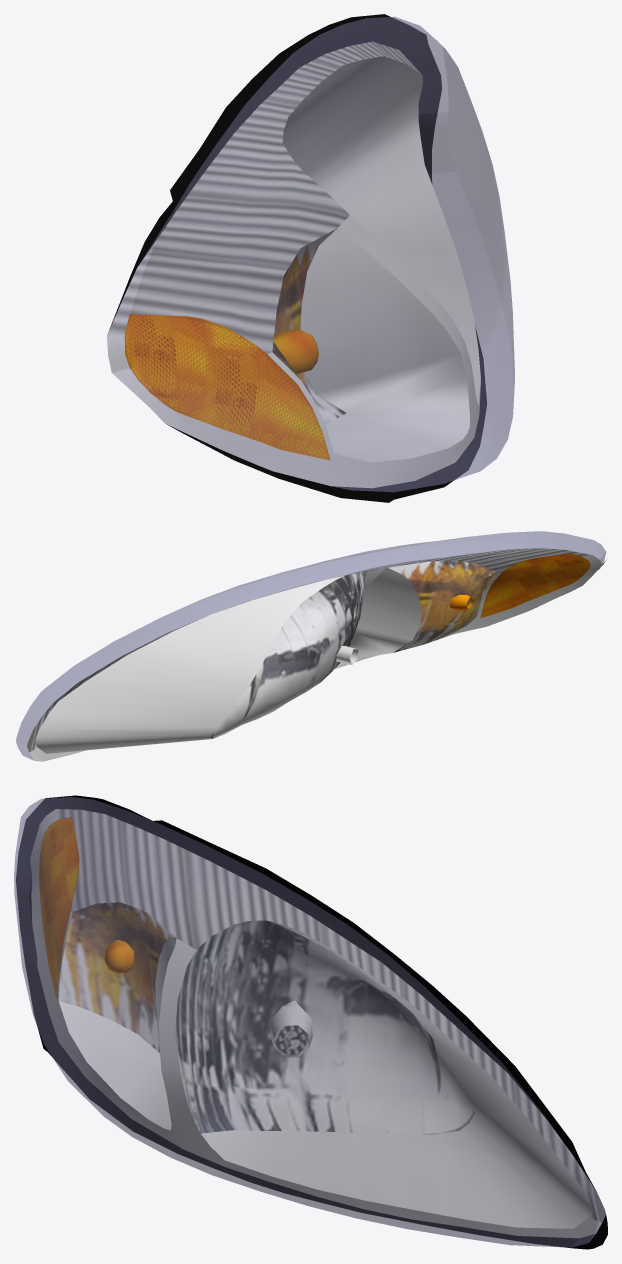
3 renders of one model, top to bottom at view 1: azimuth 30°, elevation 25°; view 2: azimuth 150°, elevation 25°; view 3: azimuth 270°, elevation 25°, orthographic. The views are drawn at different scales.
Parts seen in each view (by area): view 1: P353_20_061B_R_P353_20_061B_R_2_DTaSI, P353_20_061B_R_1_N_P353_20_061B_R, P353_20_061B_R_P353_20_061B_R_3_D; view 2: P353_20_061B_R_1_N_P353_20_061B_R, P353_20_061B_R_P353_20_061B_R_2_DTaSI; view 3: P353_20_061B_R_P353_20_061B_R_2_DTaSI, P353_20_061B_R_1_N_P353_20_061B_R, P353_20_061B_R_P353_20_061B_R_3_D.
Part boxes in pixels (<box>): P353_20_061B_R_P353_20_061B_R_2_DTaSI: <box>107,16,514,492</box>; P353_20_061B_R_1_N_P353_20_061B_R: <box>107,41,480,488</box>; P353_20_061B_R_P353_20_061B_R_3_D: <box>109,14,486,502</box>; P353_20_061B_R_1_N_P353_20_061B_R: <box>27,548,602,761</box>; P353_20_061B_R_P353_20_061B_R_2_DTaSI: <box>16,531,606,760</box>; P353_20_061B_R_P353_20_061B_R_2_DTaSI: <box>14,797,605,1247</box>; P353_20_061B_R_1_N_P353_20_061B_R: <box>30,809,605,1238</box>; P353_20_061B_R_P353_20_061B_R_3_D: <box>16,795,607,1249</box>.
Size of the model in its own units: 42.68 by 19.97 by 43.57.
